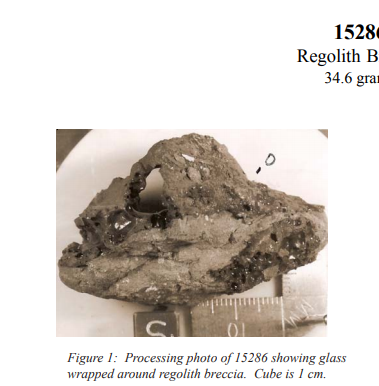Breccia: (70, 137, 327, 291), (117, 169, 268, 277)
